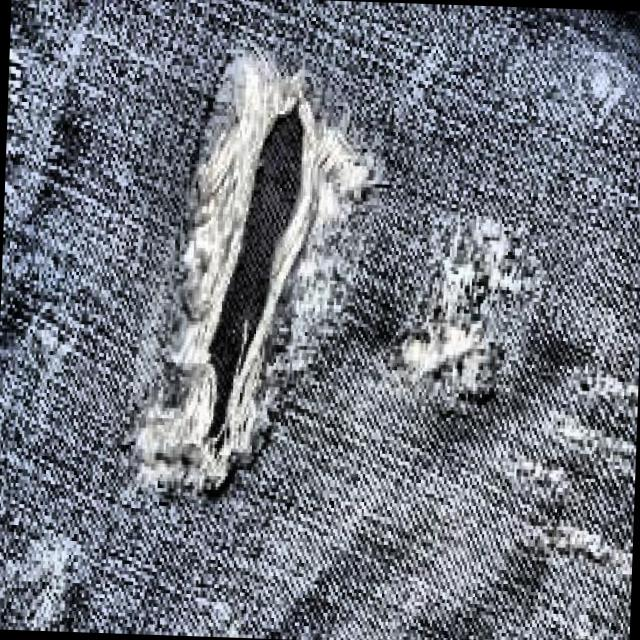cut: (121, 39, 392, 522)
selvet: (376, 179, 558, 432)
